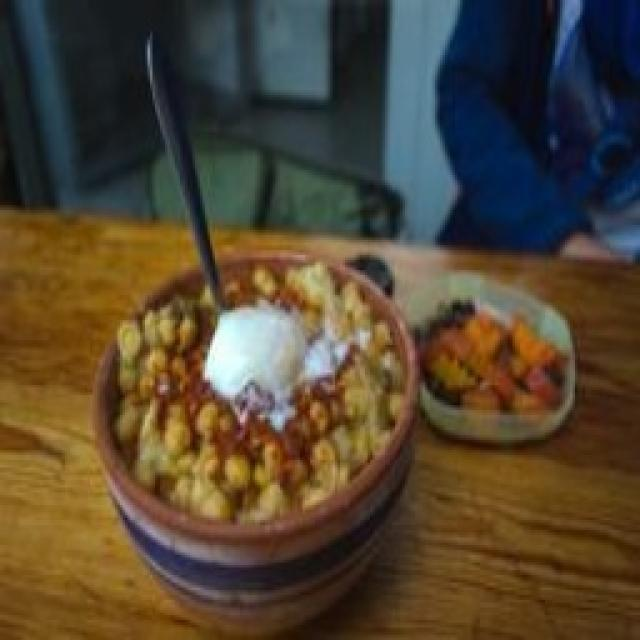Lablabi: (112, 261, 404, 523)
